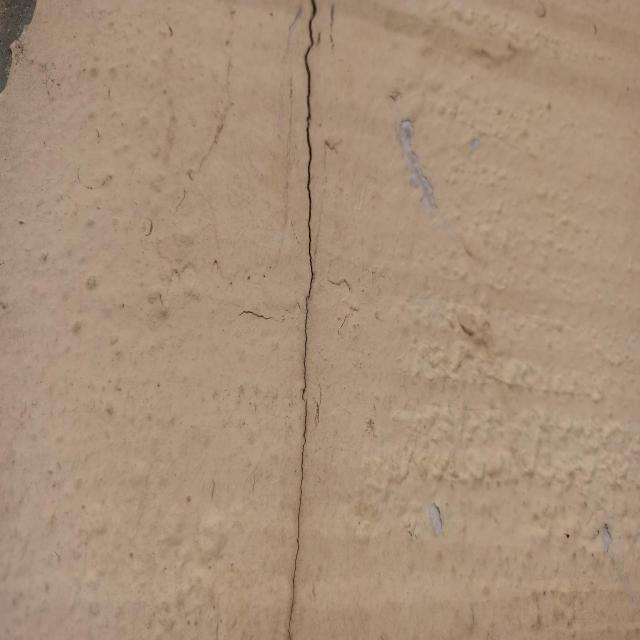SurfaceCrack: (236, 1, 371, 640)
